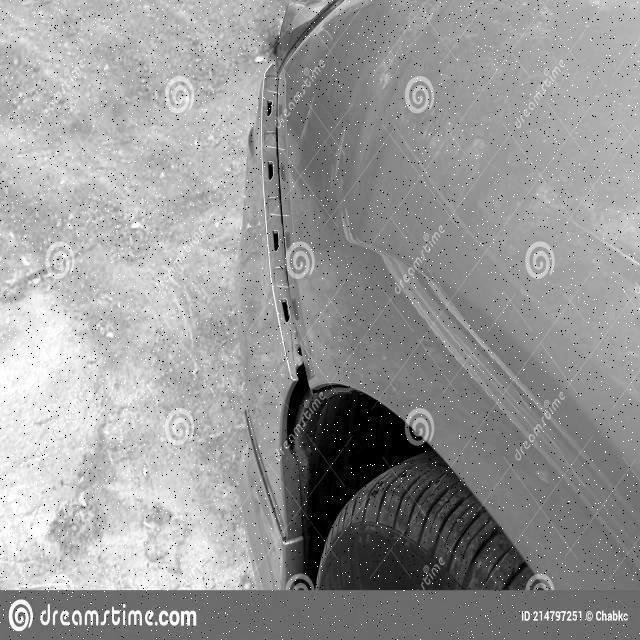front-bumper-dent: (227, 0, 346, 590)
